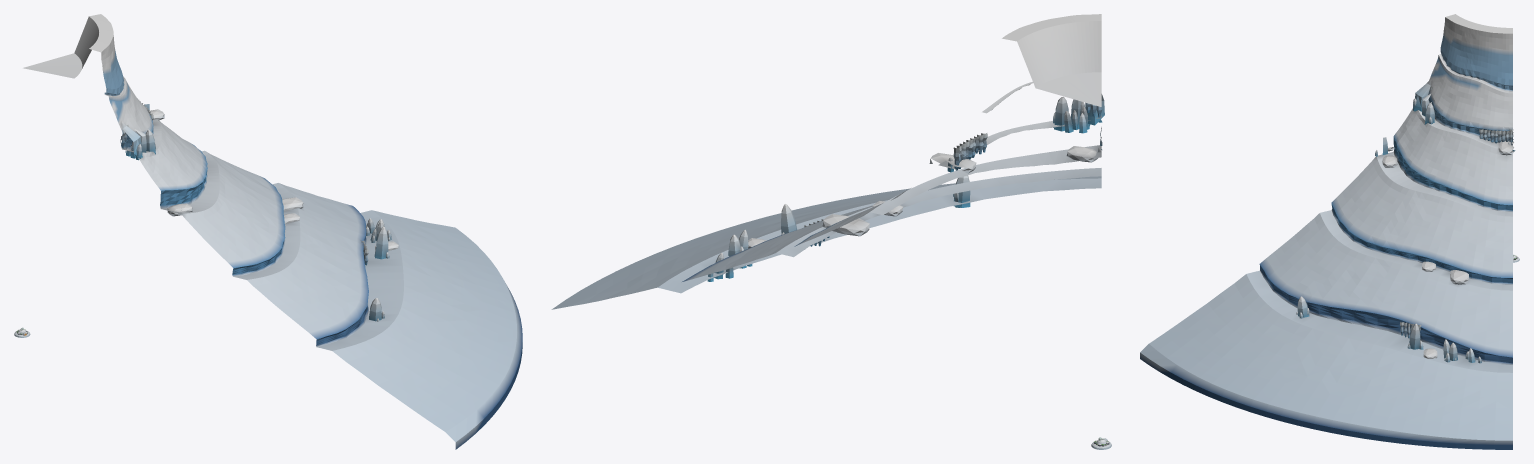
The model's file is glacier-s2-Cq8KmkcG.glb.
3 renders of one model, left to right at view 1: azimuth 30°, elevation 25°; view 2: azimuth 150°, elevation 25°; view 3: azimuth 270°, elevation 25°, orthographic. The views are drawn at different scales.
Parts seen in each view (by area): view 1: sc_landmark_5; view 2: sc_landmark_5; view 3: sc_landmark_5.
Boxes of the visible parts, <box> form: sc_landmark_5: <box>23,14,522,449</box>; sc_landmark_5: <box>551,14,1104,309</box>; sc_landmark_5: <box>1140,14,1515,449</box>.
Bounding box in the file's own units: 423 × 286 × 367.
